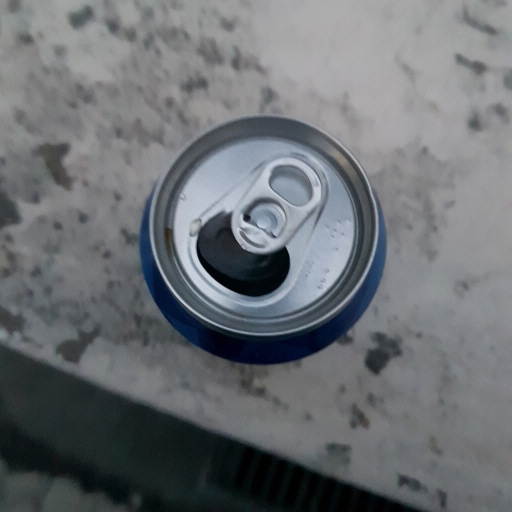Metal_0: (132, 108, 390, 366)
